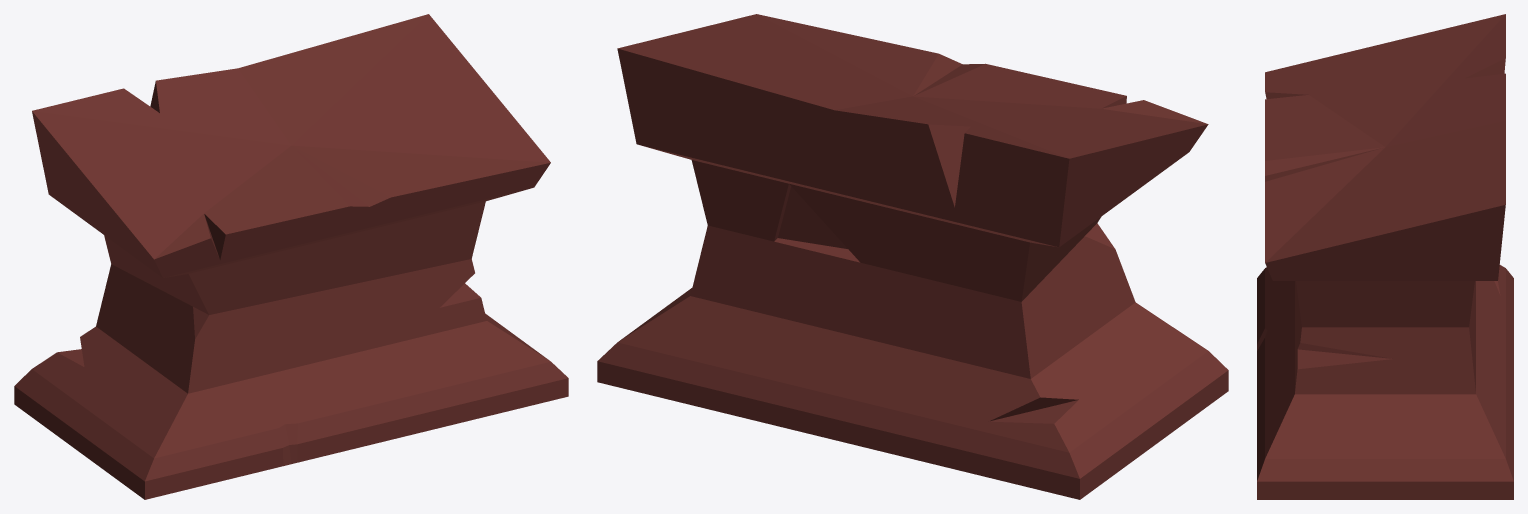
Rendered from Ruin_3_Red.fbx.
3 views of the same model, side by side, from view 1: azimuth 30°, elevation 25°; view 2: azimuth 150°, elevation 25°; view 3: azimuth 270°, elevation 25° (orthographic). The views are drawn at different scales.
Visible parts, largest first — view 1: Ruin_3_Red; view 2: Ruin_3_Red; view 3: Ruin_3_Red.
Boxes of the visible parts, box(x1,y1,x2,y2) form: Ruin_3_Red: box(14, 14, 568, 499); Ruin_3_Red: box(597, 14, 1228, 499); Ruin_3_Red: box(1257, 14, 1513, 499).
Bounding box in the file's own units: 160 × 106 × 85.4.
